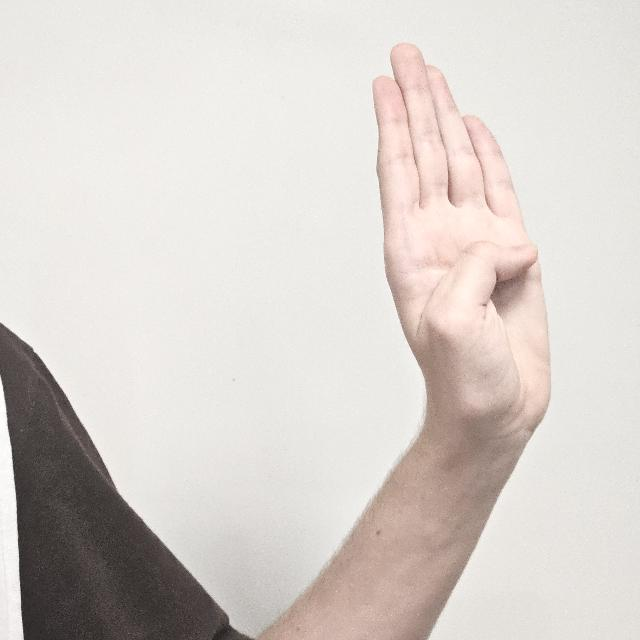Baixo: (359, 30, 569, 464)
